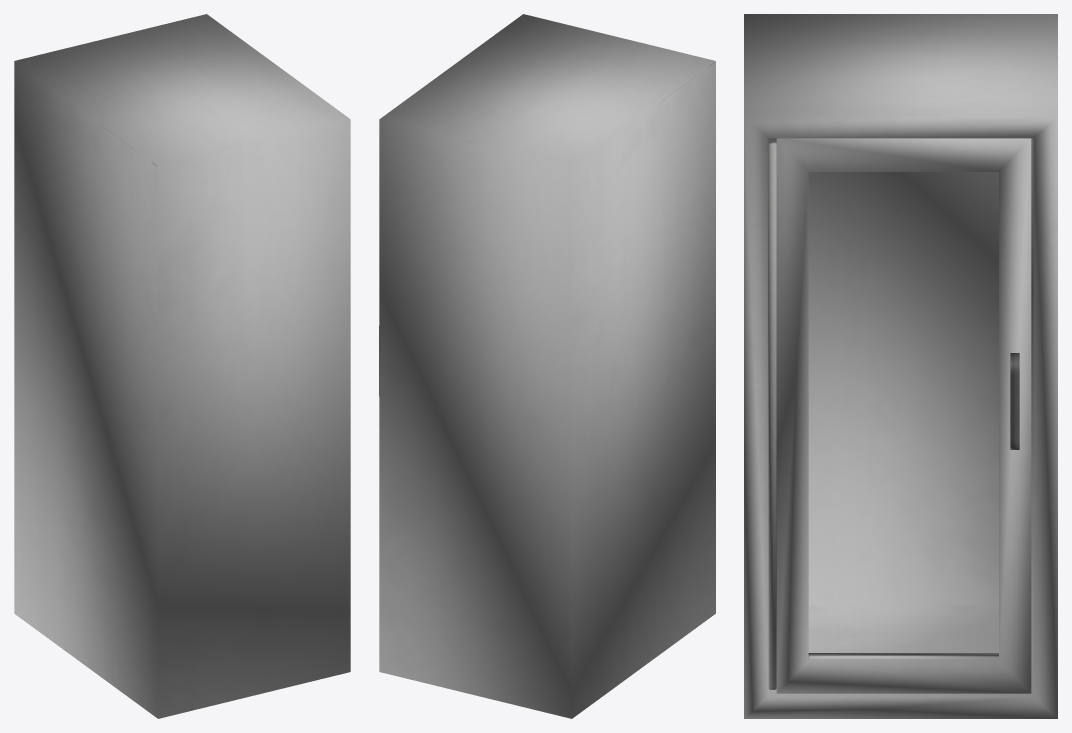
File: FireExtinguisherBoxFinal.glb
The picture shows the model from 3 angles, left to right: view 1: azimuth 30°, elevation 25°; view 2: azimuth 150°, elevation 25°; view 3: azimuth 270°, elevation 25°; orthographic projection. The views are drawn at different scales.
Visible parts, largest first — view 1: Box_LP; view 2: Box_LP; view 3: Box_LP, Door_LP, DoorLever_LP, Handle_LP.
Part boxes in pixels (x1,y1,x2,y2): Box_LP: (14,14,350,718); Box_LP: (379,14,715,718); Box_LP: (744,14,1057,718); Door_LP: (776,138,1031,693); DoorLever_LP: (768,142,776,689); Handle_LP: (1010,353,1019,449).
Bounding box in the file's own units: 2.19 × 5.48 × 2.59.
1 material, 1 textured.
